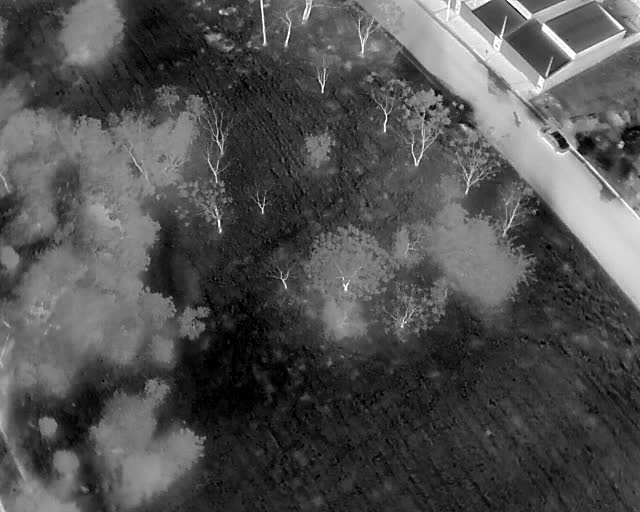car: (537, 125, 570, 153)
